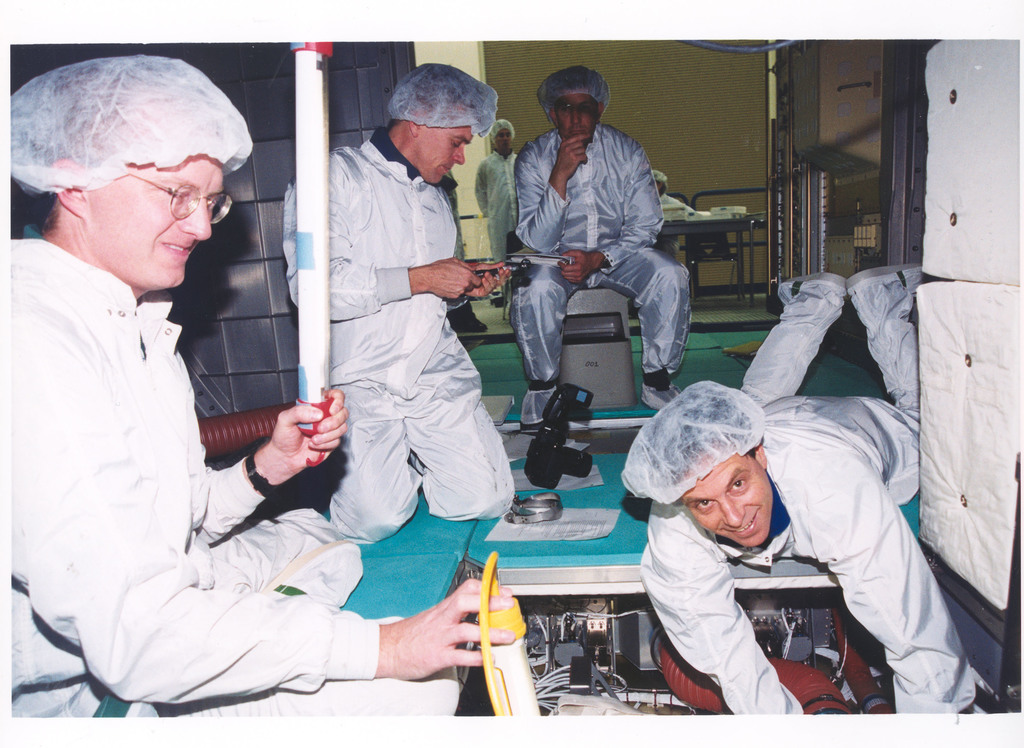Person: (9, 53, 976, 713)
